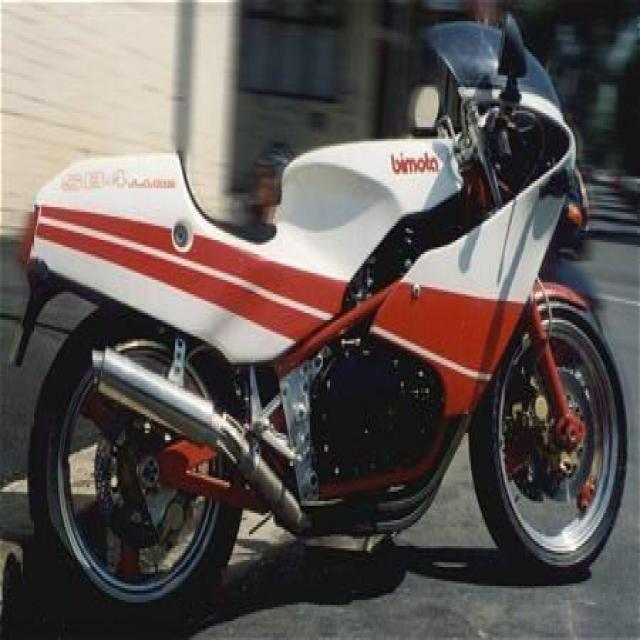Motorcycle: (13, 44, 632, 626)
